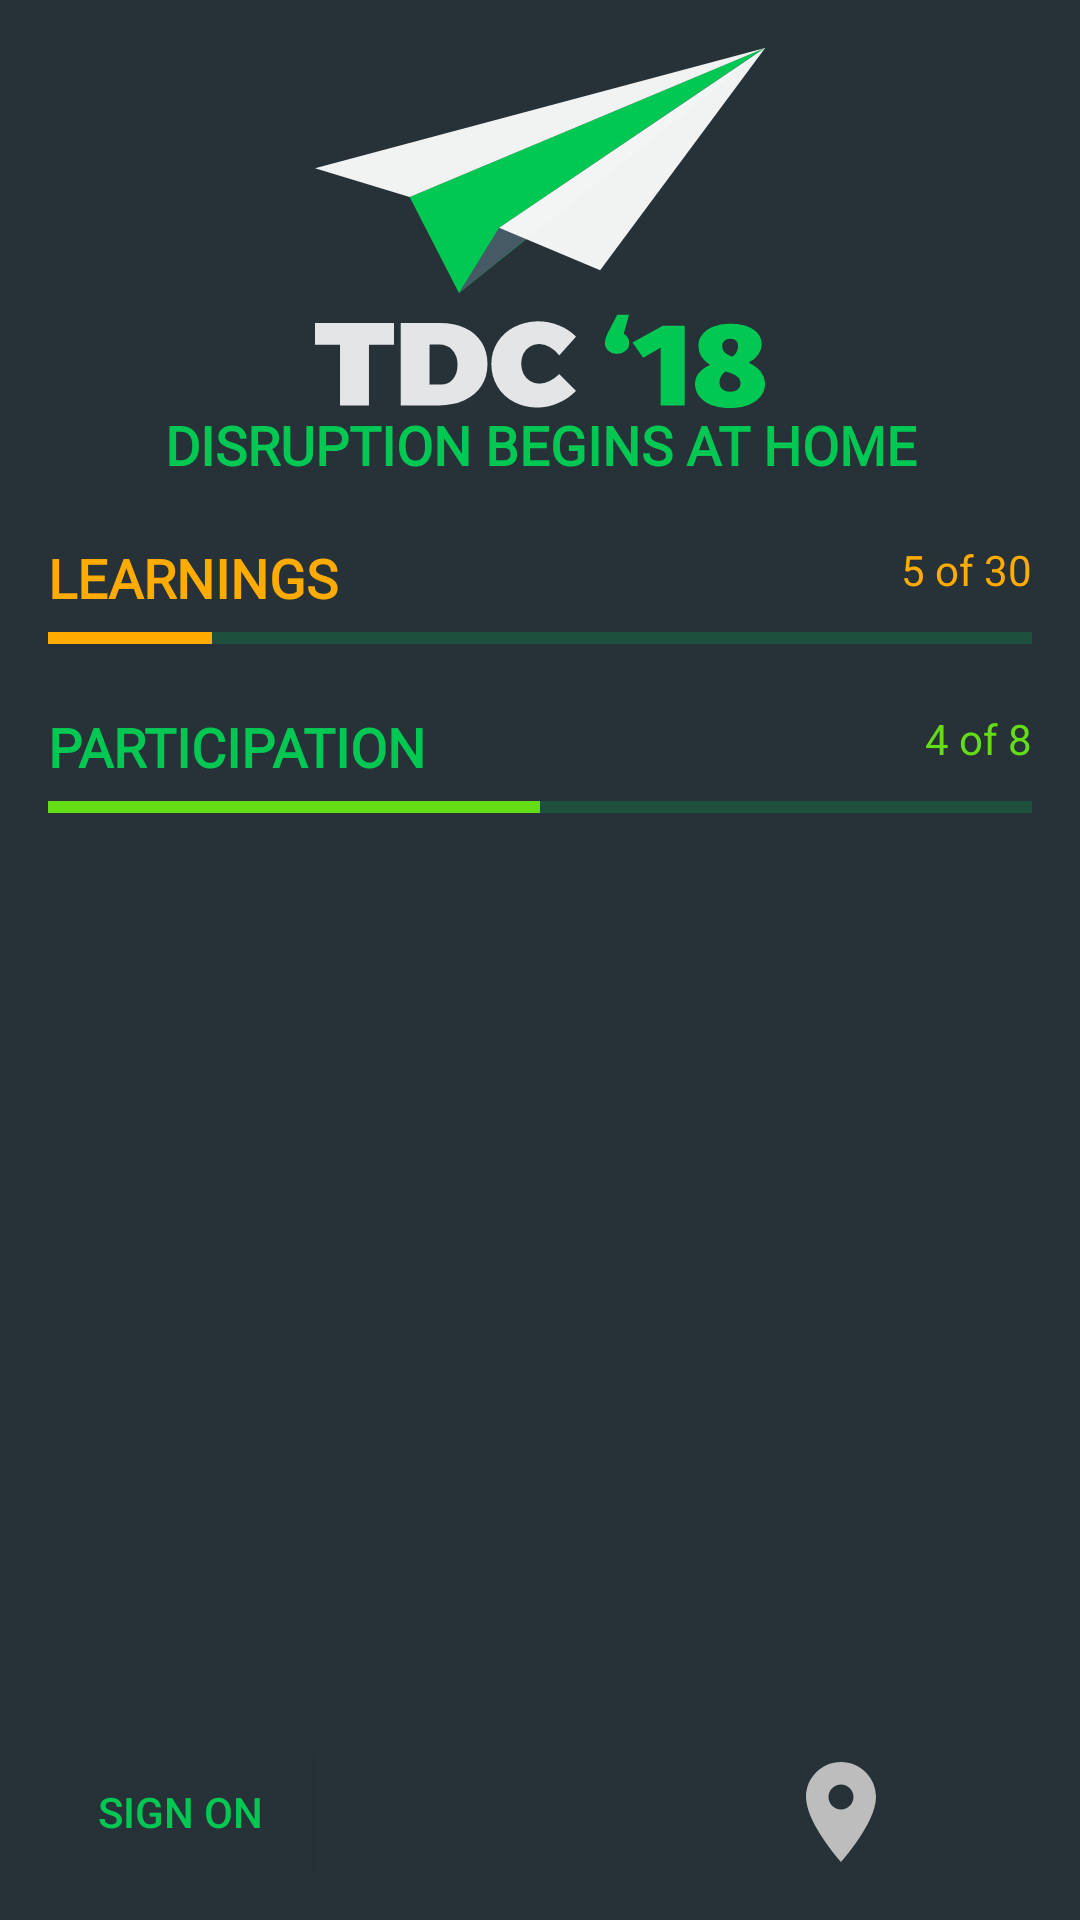

Screen size 1080w x 1920h. Icon name, then its box in pixels as (x1, y1, x2, y2):
location on: (806, 1762, 876, 1862)
